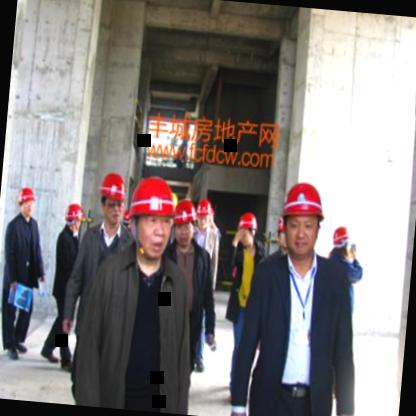helmet: (125, 168, 180, 268), (276, 178, 329, 262), (95, 169, 127, 229), (233, 210, 266, 252), (191, 194, 221, 238), (11, 184, 43, 224), (172, 197, 196, 244), (327, 225, 356, 263), (60, 201, 85, 236)
